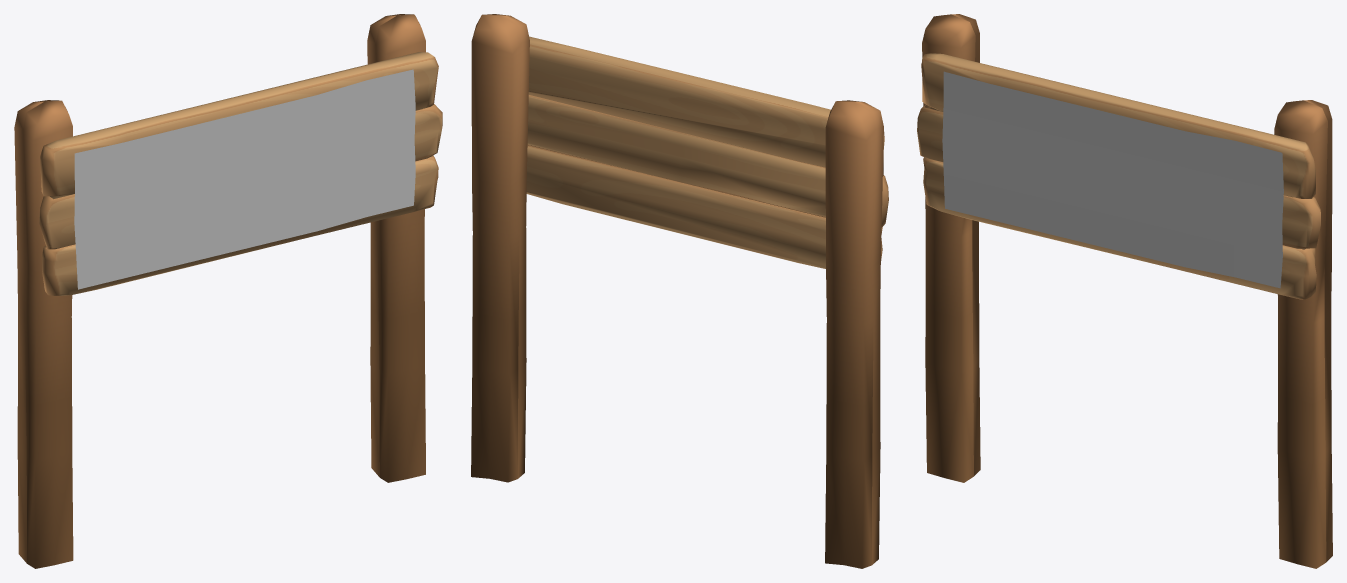
The model's file is parkGate00.fbx.
3 views of the same model, side by side, from view 1: azimuth 30°, elevation 25°; view 2: azimuth 150°, elevation 25°; view 3: azimuth 330°, elevation 25° (orthographic).
Visible parts, largest first — view 1: Gate, GatePaper; view 2: Gate; view 3: Gate, GatePaper.
Boxes of the visible parts, x1=… form: Gate: x1=14, y1=14, x2=442, y2=568; GatePaper: x1=74, y1=69, x2=415, y2=289; Gate: x1=471, y1=14, x2=888, y2=568; Gate: x1=917, y1=14, x2=1332, y2=568; GatePaper: x1=942, y1=71, x2=1283, y2=288.
Size of the model in its own units: 1.74 by 1.88 by 0.2275.
